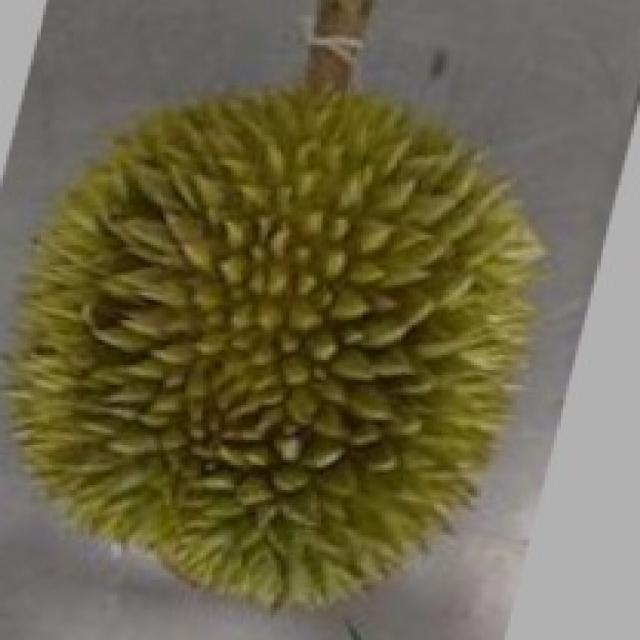fruit: (0, 10, 348, 502), (0, 265, 366, 637)
